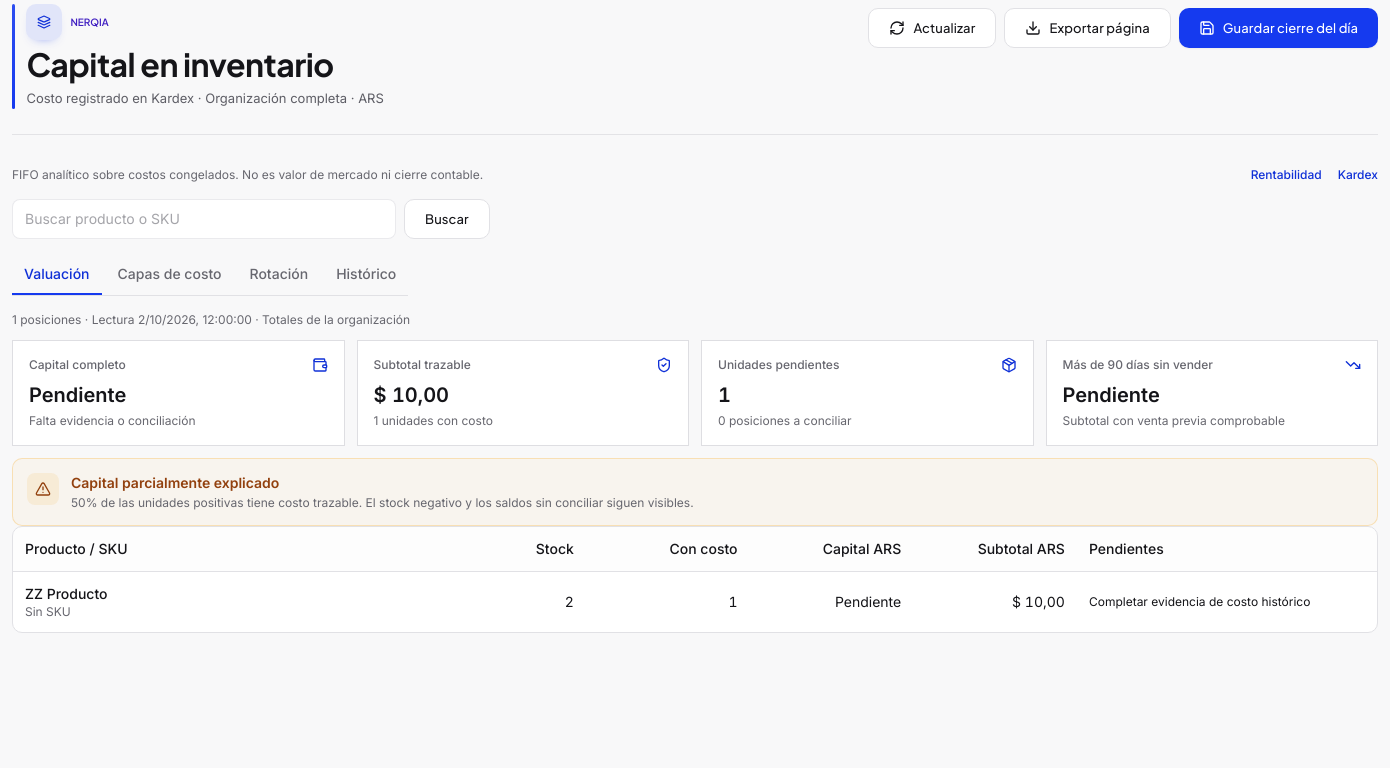
Test: Inventory capital: source contract and real actions › shows human pending reasons and unified layers/rotation/history tabs
Expected: the text "Capital parcialmente explicado" is shown, [71, 474, 279, 491]
Press the mouse on the tab "Capas de costo" at (170, 275), box [106, 255, 234, 295]
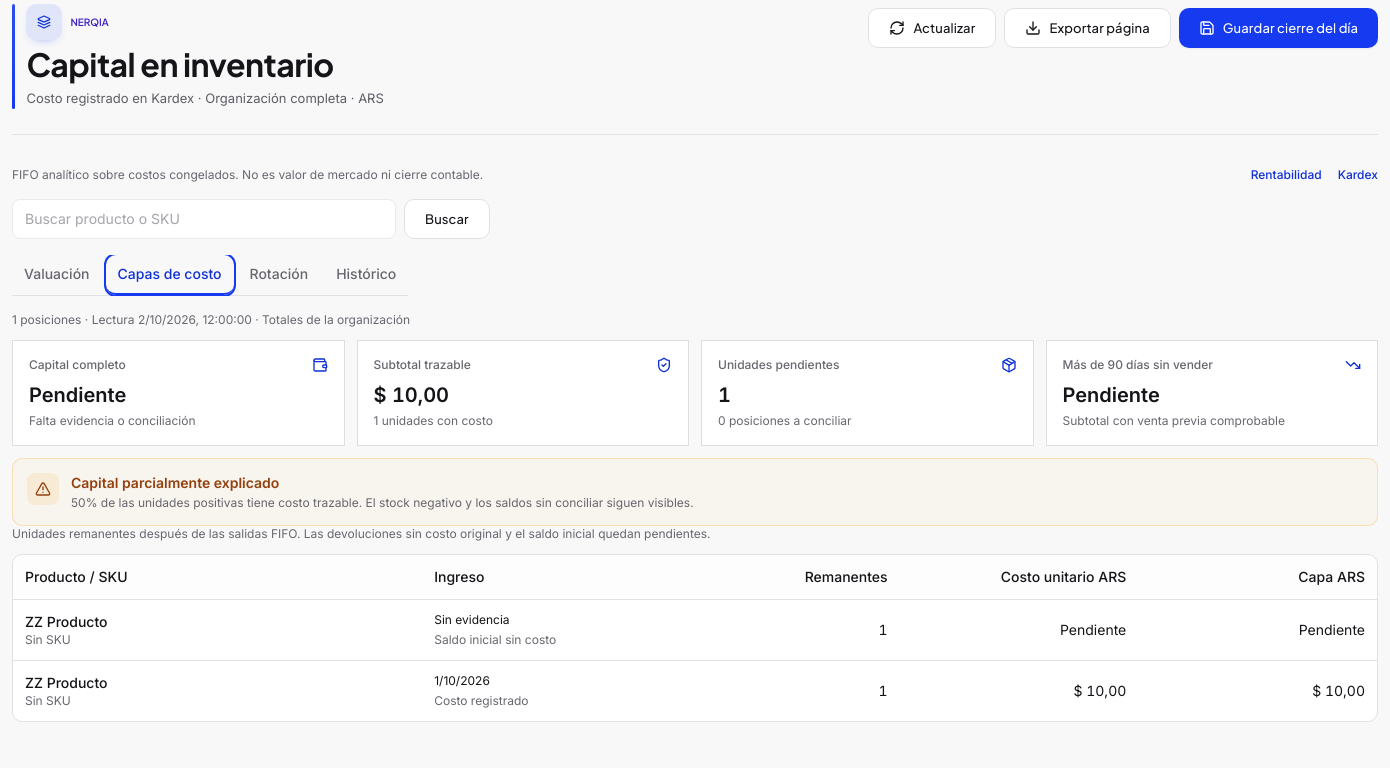
Expected: the text "Saldo inicial sin costo" is shown, [434, 632, 556, 647]
Press the mouse on the tab "Rotación" at (279, 275), box [238, 255, 320, 295]
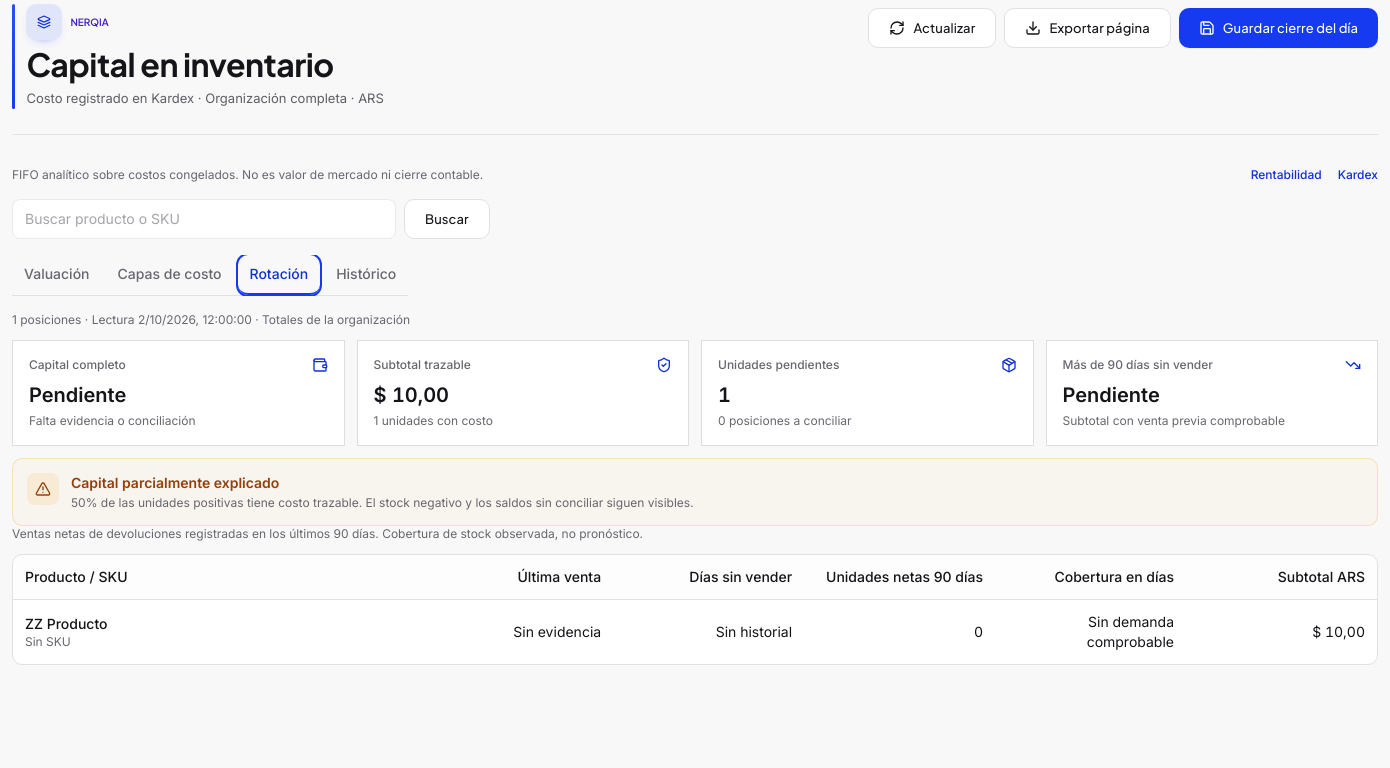
Expected: the text "Sin demanda comprobable" is shown, [995, 599, 1186, 664]
Press the mouse on the tab "Histórico" at (366, 275), box [324, 255, 408, 295]
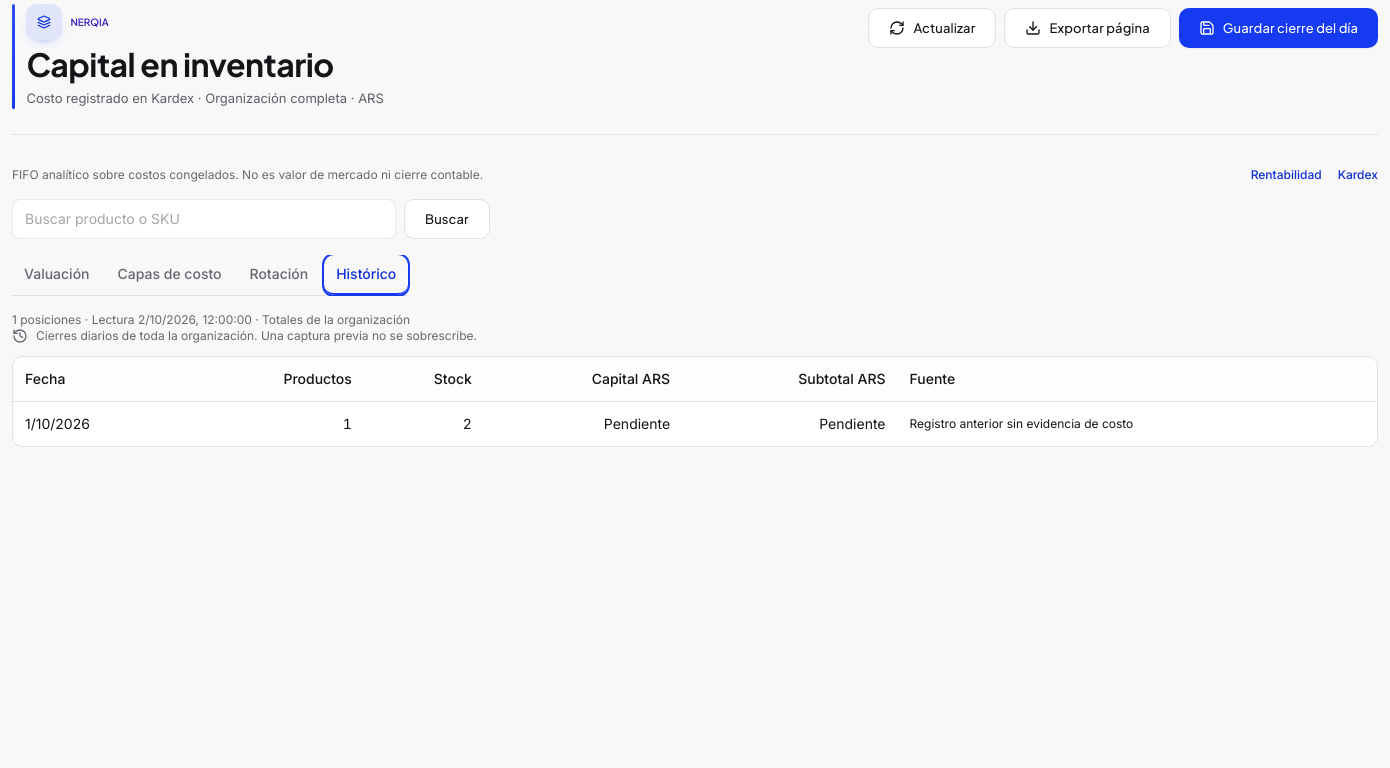
Expected: the text "Registro anterior sin evidencia de costo" is shown, [898, 401, 1377, 446]
